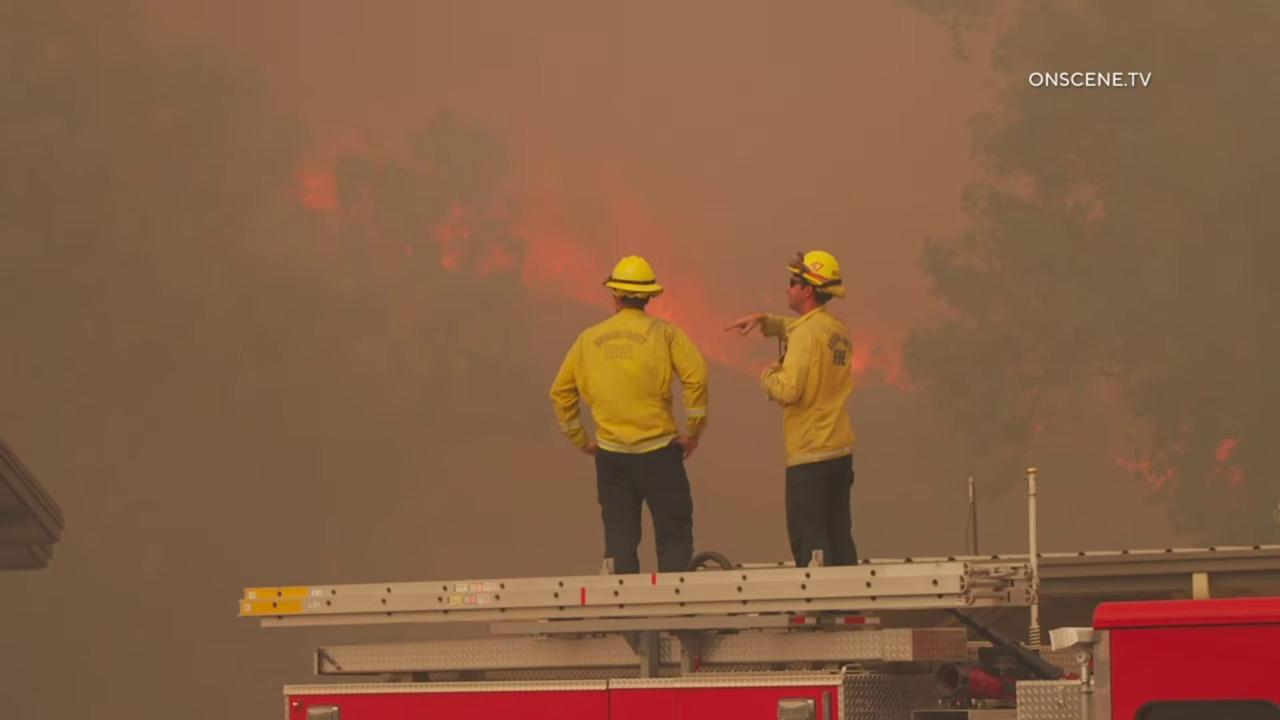fire: (284, 117, 917, 393), (1110, 448, 1180, 502), (1207, 434, 1252, 500)
smoke: (0, 0, 1280, 720)
